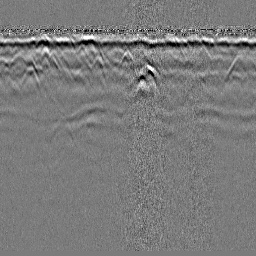cavity: (119, 48, 135, 63)
